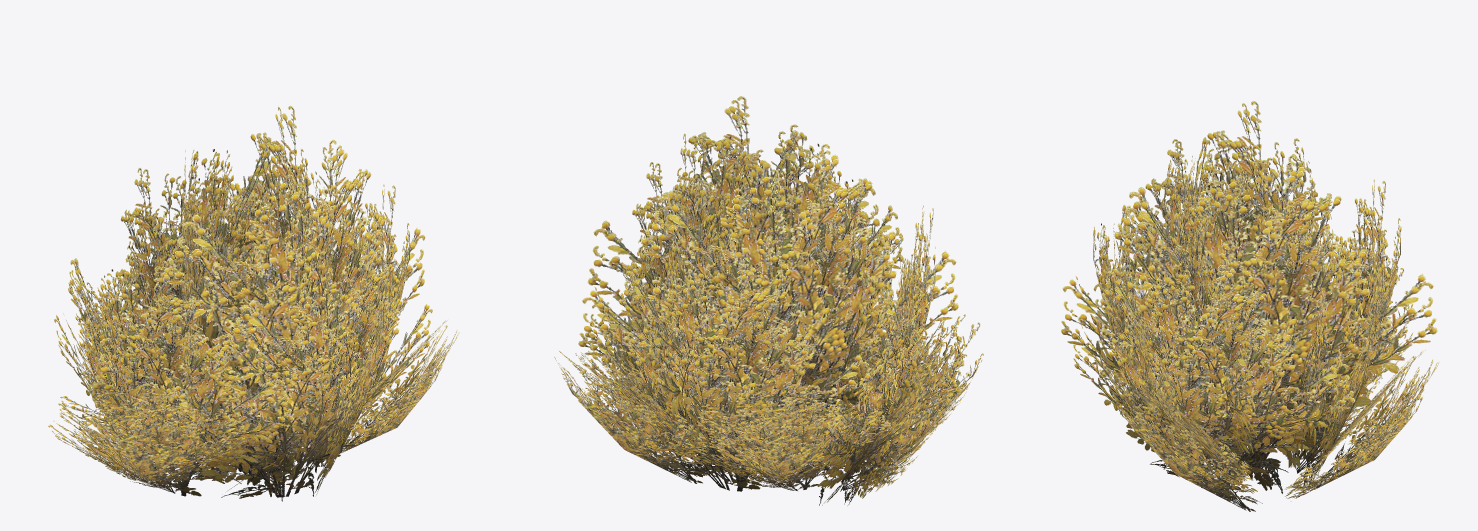
Rendered from yellowBush_01.dae.
3 views of the same model, side by side, from view 1: azimuth 30°, elevation 25°; view 2: azimuth 150°, elevation 25°; view 3: azimuth 270°, elevation 25° (orthographic).
Visible parts, largest first — view 1: YellowBushTwo128, YellowBushTwo64; view 2: YellowBushTwo128, YellowBushTwo64; view 3: YellowBushTwo128, YellowBushTwo64.
Part boxes in pixels (x1=…): YellowBushTwo128: x1=48, y1=105, x2=459, y2=501; YellowBushTwo64: x1=53, y1=106, x2=447, y2=501; YellowBushTwo128: x1=554, y1=96, x2=983, y2=505; YellowBushTwo64: x1=558, y1=100, x2=965, y2=505; YellowBushTwo128: x1=1061, y1=101, x2=1439, y2=511; YellowBushTwo64: x1=1075, y1=103, x2=1437, y2=497.
Size of the model in its own units: 4.33 by 3.77 by 4.02.
